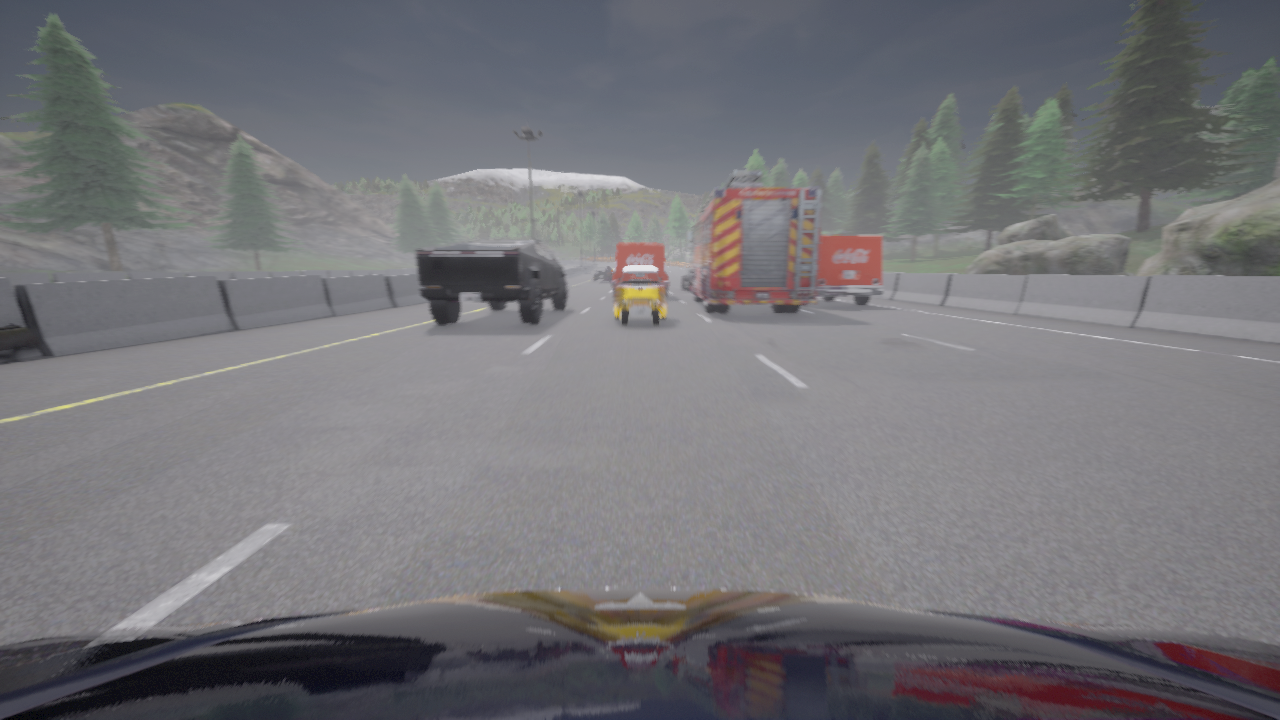cyclist: (0, 588, 1279, 719), (686, 170, 820, 313), (415, 240, 567, 324), (801, 235, 883, 305), (611, 266, 668, 325), (612, 244, 667, 296), (681, 260, 692, 291), (591, 267, 613, 282)
